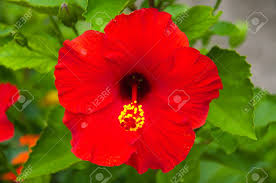hybiscus: (56, 8, 226, 174)
